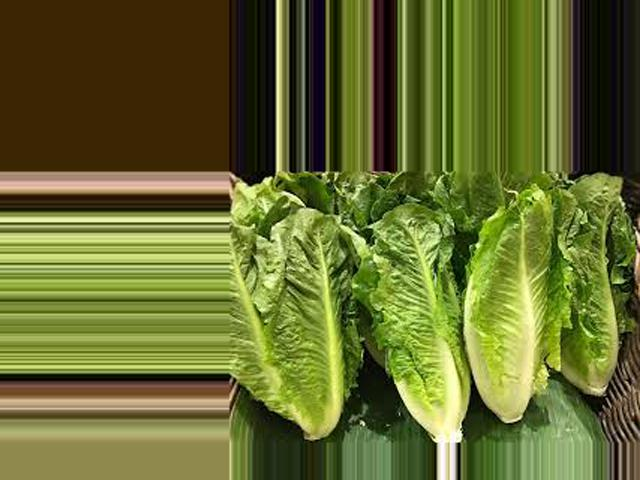lettuce: (553, 171, 618, 387)
